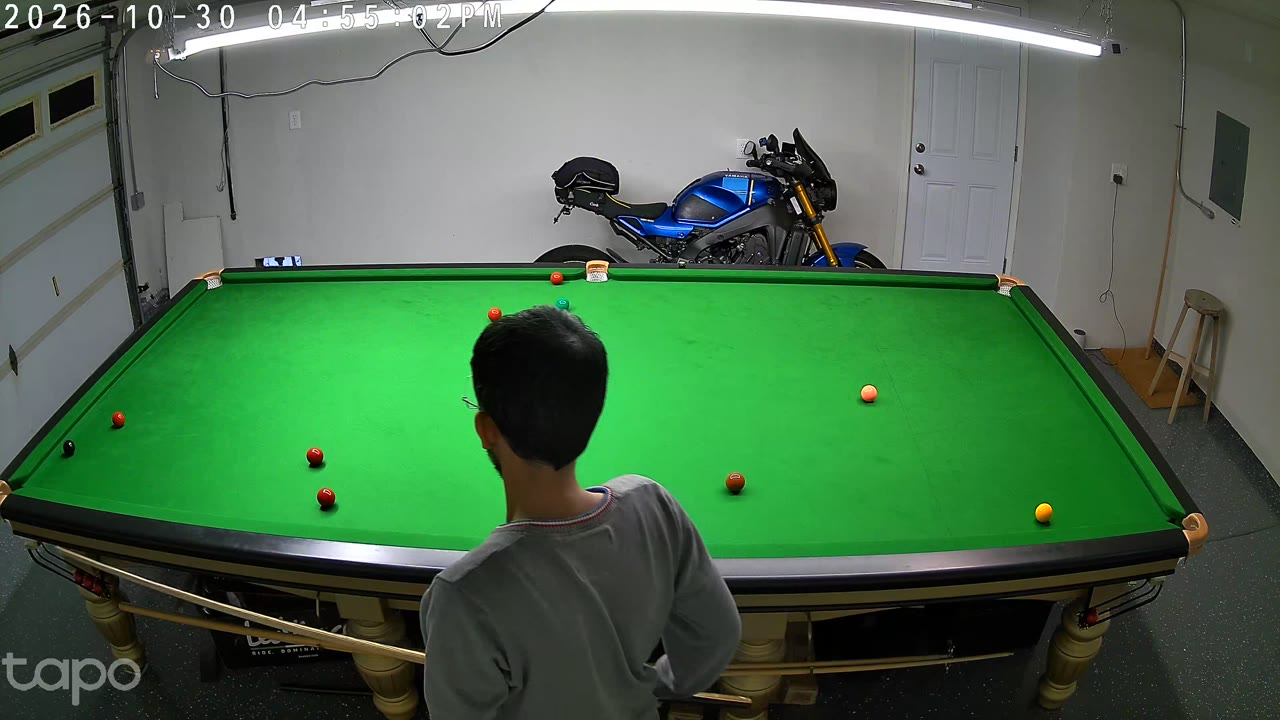black: (62, 438, 76, 459)
brown: (726, 471, 744, 496)
pink: (860, 384, 876, 404)
red: (317, 486, 336, 512), (307, 445, 323, 469), (488, 306, 502, 328), (112, 410, 125, 430), (551, 271, 562, 288)
yellow: (1035, 500, 1053, 526)
